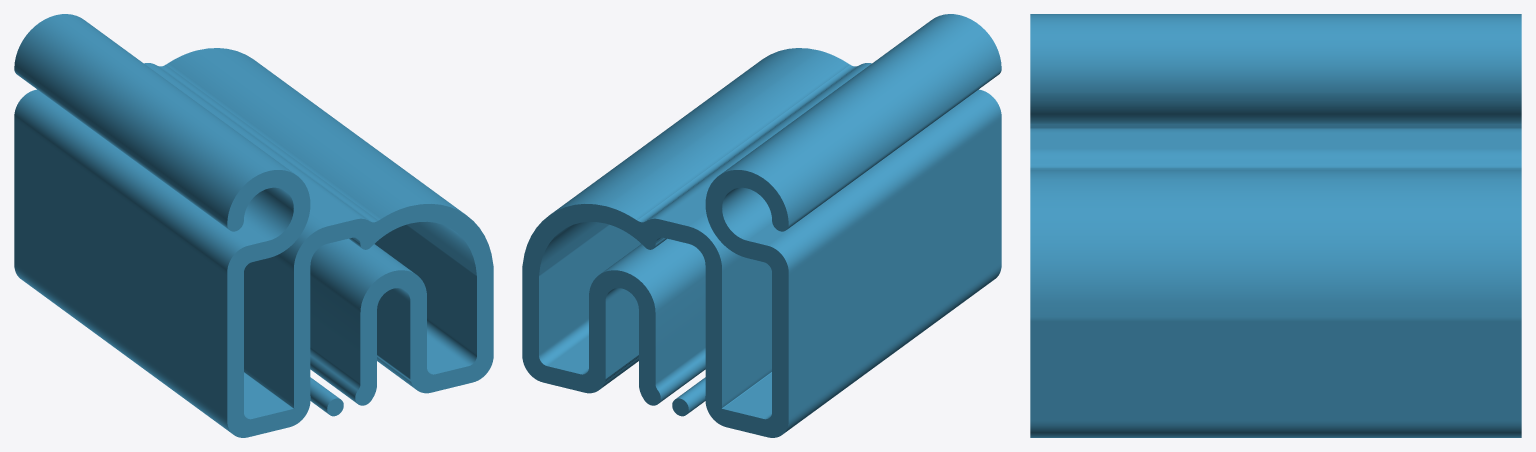
The picture shows the model from 3 angles, left to right: view 1: azimuth 30°, elevation 25°; view 2: azimuth 150°, elevation 25°; view 3: azimuth 270°, elevation 25°; orthographic projection. The views are drawn at different scales.
Parts seen in each view (by area): view 1: Curve; view 2: Curve; view 3: Curve.
Boxes of the visible parts, x1,y1,x2,y2 form: Curve: [14, 14, 493, 437]; Curve: [522, 14, 1001, 437]; Curve: [1030, 14, 1521, 437].
Size of the model in its own units: 0.1445 by 0.1354 by 0.2.
